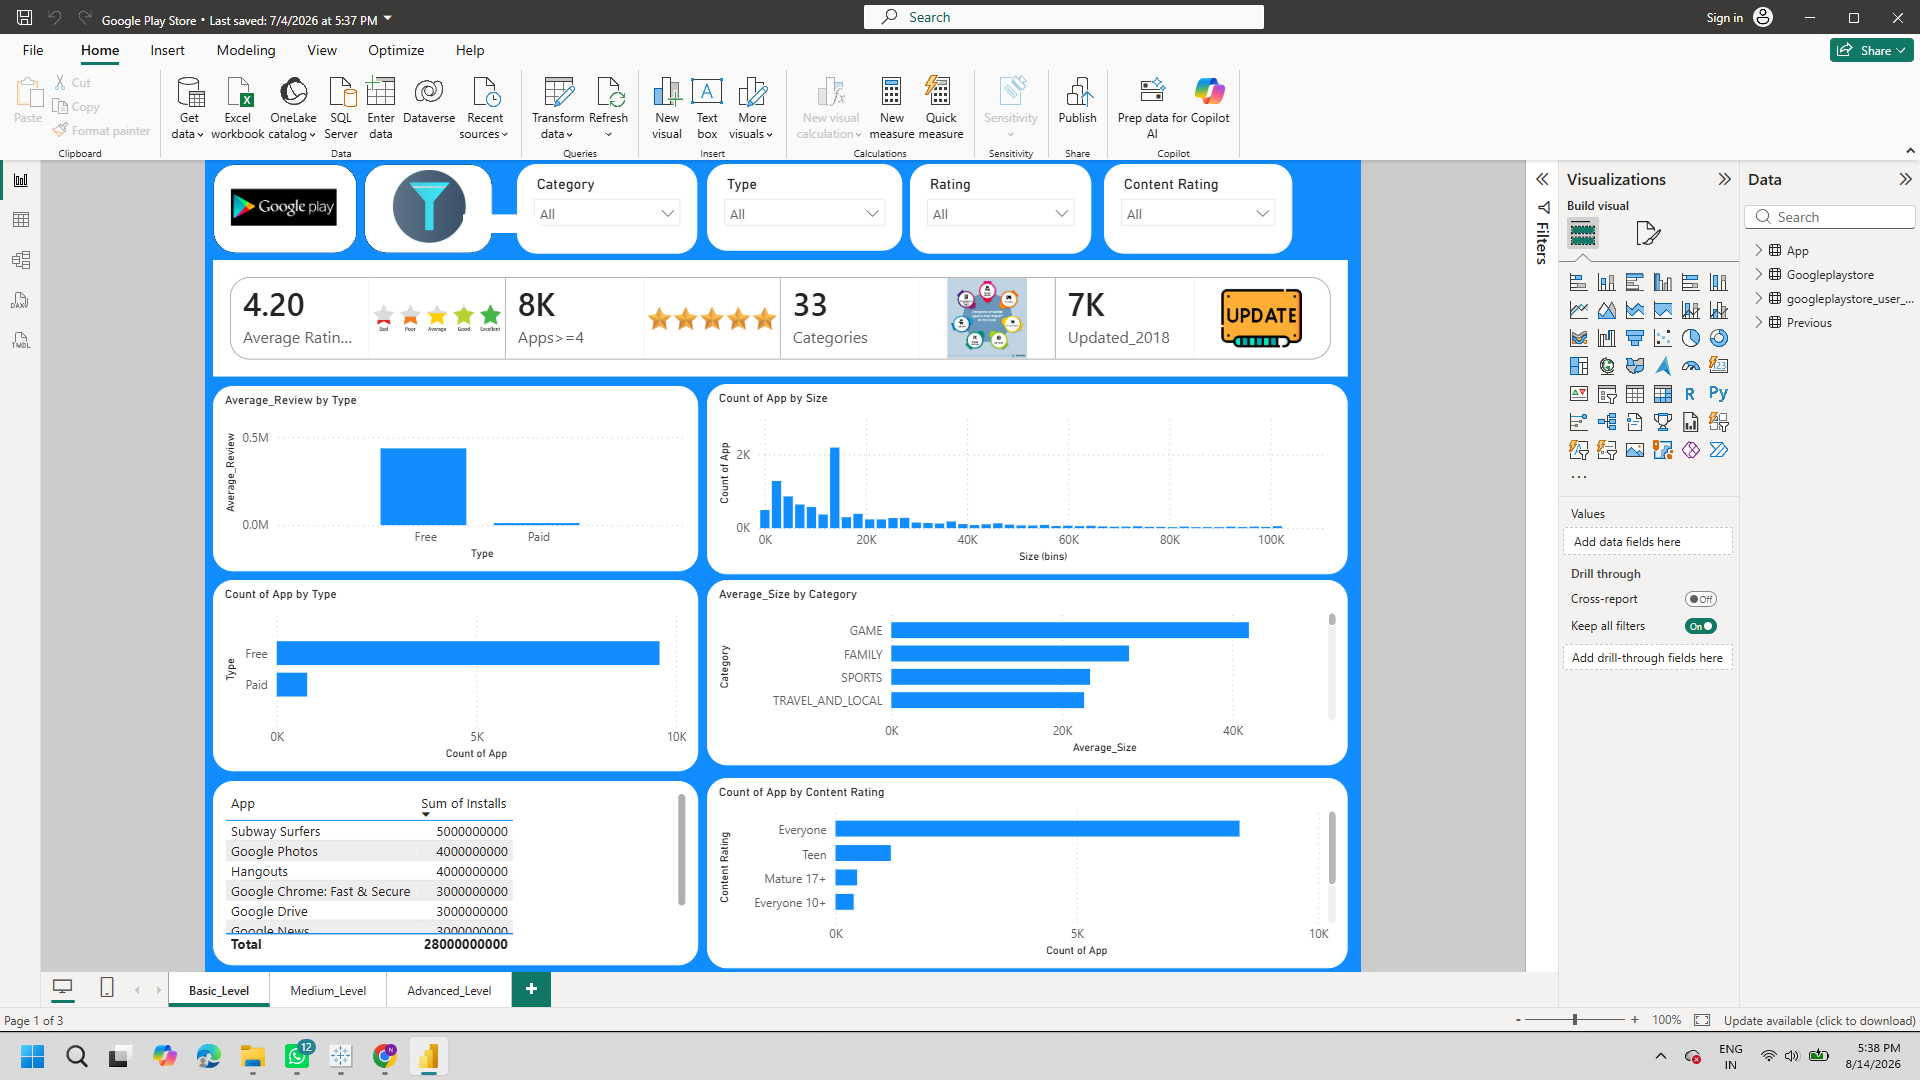

The dashboard page shown, as its layout file describes it:
{"tool":"powerbi","page":{"name":"DASHBOARD","canvas":[1400,800],"ordinal":0},"visuals":[{"type":"clusteredColumnChart","title":"Count of App by Size ","fields":{"Category":["Googlepalystore.Size (bins)"],"Y":["CountNonNull(Googlepalystore.App)"]},"box":[423.4,221.3,474.5,200],"z":0},{"type":"clusteredBarChart","fields":{"Category":["Googlepalystore.Type"],"Y":["CountNonNull(Googlepalystore.App)"]},"box":[8.5,426.6,410.6,186.2],"z":1000},{"type":"clusteredBarChart","fields":{"Category":["Googlepalystore.Content Rating"],"Y":["CountNonNull(Googlepalystore.App)"]},"box":[426.6,620.2,472.3,179.8],"z":2000},{"type":"clusteredBarChart","fields":{"Y":["Googlepalystore.Average_Size"],"Category":["Googlepalystore.Category"]},"box":[423.4,426.6,475.5,186.2],"z":5000},{"type":"slicer","fields":{"Values":["Googlepalystore.Category"]},"box":[313.8,4.3,196.8,89.4],"z":6000},{"type":"slicer","fields":{"Values":["Googlepalystore.Type"]},"box":[518.1,5.3,217,86.2],"z":7000},{"type":"slicer","fields":{"Values":["Googlepalystore.Rating"]},"box":[745.7,4.3,208.5,89.4],"z":8000},{"type":"slicer","fields":{"Values":["Googlepalystore.Content Rating"]},"box":[961.7,4.3,216,89.4],"z":9000},{"type":"shape","box":[7.9,3.9,144.8,89.7],"z":10000},{"type":"image","box":[7.9,15.8,141.9,61.1],"z":11000},{"type":"shape","box":[159.6,3.9,129.1,89.7],"z":12000},{"type":"image","box":[183.3,9.9,82.8,72.9],"z":13000},{"type":"shape","box":[259.1,45.3,77.8,37.4],"z":14000},{"type":"cardVisual","fields":{"Data":["Googlepalystore.Average Ratings","Googlepalystore.Rating_Above_4","Googlepalystore.Unique Category","Googlepalystore.Apps Updated_2018"]},"box":[8.5,100,1384,118.1],"z":15000},{"type":"lineChart","title":"App Updates Over-Time","fields":{"Category":["Googlepalystore.Last Updated.Variation.Date Hierarchy.Year","Googlepalystore.Last Updated.Variation.Date Hierarchy.Quarter","Googlepalystore.Last Updated.Variation.Date Hierarchy.Month","Googlepalystore.Last Updated.Variation.Date Hierarchy.Day"],"Y":["CountNonNull(Googlepalystore.App)"]},"box":[910.6,579.8,489.4,220.2],"z":16000},{"type":"tableEx","fields":{"Values":["Googlepalystore.App","Sum(Googlepalystore.Rating)","Sum(Googlepalystore.Reviews)","Sum(Googlepalystore.Installs)"]},"box":[902.1,221.3,497.9,350],"z":17000},{"type":"hundredPercentStackedBarChart","title":"Sentiment Analysis","fields":{"Series":["googleplaystore_user_reviews.Sentiment"],"Y":["CountNonNull(Googleplaystore.Rating Group)"],"Category":["googleplaystore_user_reviews.Translated_Review"]},"box":[7.4,620.2,411.7,179.8],"z":17001},{"type":"clusteredColumnChart","title":"Average Ratings by Installs (bins)","fields":{"Y":["Googlepalystore.Average Ratings"],"Category":["Googlepalystore.Installs (bins)"]},"box":[8.5,221.3,410.6,200],"z":17002},{"type":"cardVisual","fields":{"Data":["Googlepalystore.Average_Update_time"]},"box":[1186.2,4.3,206.4,89.4],"z":17003}]}

Visuals, with their boxes on the page's 1400x800 design canvas (x1, y1, x2, y2). These are canvas units, not pixel positions in the 1920x1080 screenshot, which may show the page scaled, cropped or inside an application window:
"Count of App by Size " clusteredColumnChart: BBox(423, 221, 898, 421)
clusteredBarChart - Googlepalystore.Type x CountNonNull(Googlepalystore.App): BBox(8, 427, 419, 613)
clusteredBarChart - Googlepalystore.Content Rating x CountNonNull(Googlepalystore.App): BBox(427, 620, 899, 800)
clusteredBarChart - Googlepalystore.Average_Size x Googlepalystore.Category: BBox(423, 427, 899, 613)
slicer - Googlepalystore.Category: BBox(314, 4, 511, 94)
slicer - Googlepalystore.Type: BBox(518, 5, 735, 92)
slicer - Googlepalystore.Rating: BBox(746, 4, 954, 94)
slicer - Googlepalystore.Content Rating: BBox(962, 4, 1178, 94)
shape: BBox(8, 4, 153, 94)
image: BBox(8, 16, 150, 77)
shape: BBox(160, 4, 289, 94)
image: BBox(183, 10, 266, 83)
shape: BBox(259, 45, 337, 83)
cardVisual - Googlepalystore.Average Ratings x Googlepalystore.Rating_Above_4: BBox(8, 100, 1392, 218)
"App Updates Over-Time" lineChart: BBox(911, 580, 1400, 800)
tableEx - Googlepalystore.App x Sum(Googlepalystore.Rating): BBox(902, 221, 1400, 571)
"Sentiment Analysis" hundredPercentStackedBarChart: BBox(7, 620, 419, 800)
"Average Ratings by Installs (bins)" clusteredColumnChart: BBox(8, 221, 419, 421)
cardVisual - Googlepalystore.Average_Update_time: BBox(1186, 4, 1393, 94)
